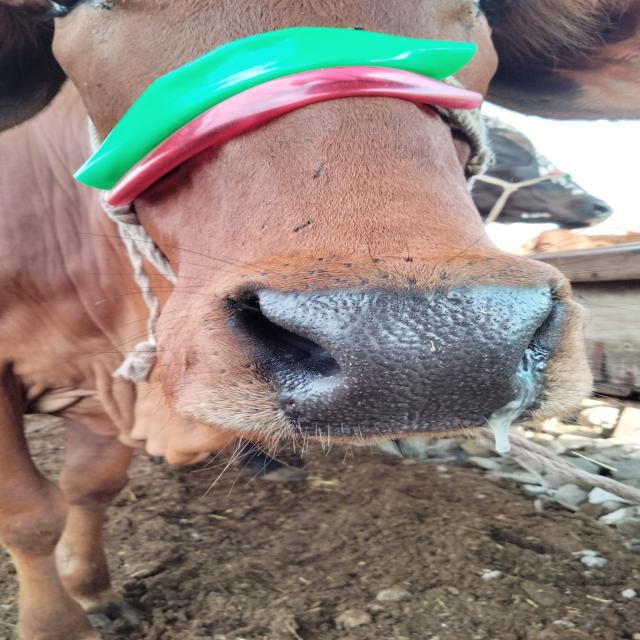muzzles: (219, 266, 581, 439)
